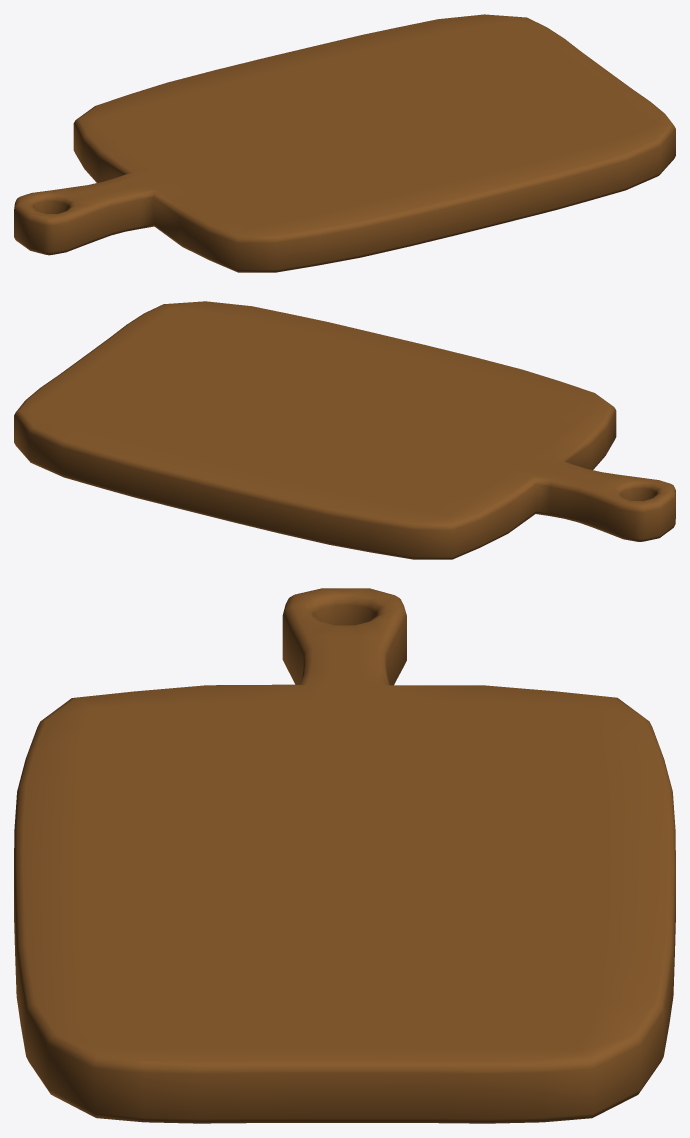
File: Cutting_board_mid.fbx
The picture shows the model from 3 angles, top to bottom: view 1: azimuth 30°, elevation 25°; view 2: azimuth 150°, elevation 25°; view 3: azimuth 270°, elevation 25°; orthographic projection. The views are drawn at different scales.
Parts seen in each view (by area): view 1: Cutting_board002; view 2: Cutting_board002; view 3: Cutting_board002.
Part boxes in pixels (x1,y1,x2,y2): Cutting_board002: (14,14,675,272); Cutting_board002: (14,301,675,559); Cutting_board002: (14,588,675,1123).
Bounding box in the file's own units: 61.74 × 3.72 × 35.88.
